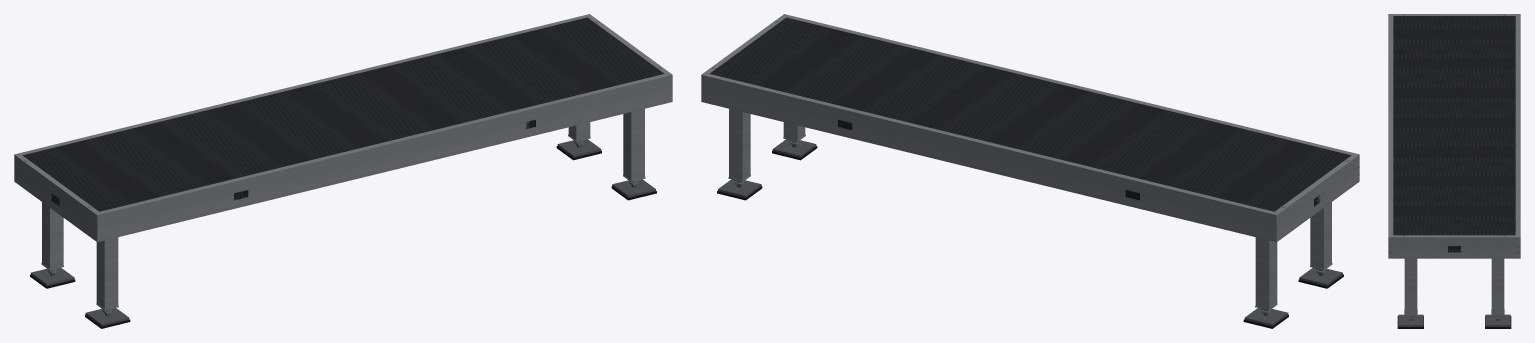
File: stage_extension_2x0p5_h040.obj
The picture shows the model from 3 angles, left to right: view 1: azimuth 30°, elevation 25°; view 2: azimuth 150°, elevation 25°; view 3: azimuth 270°, elevation 25°; orthographic projection. The views are drawn at different scales.
Visible parts, largest first — view 1: part_4, part_43, part_81, part_64, part_28, part_679, part_427, part_49, part_301, part_10, part_663, part_411 (+2 smaller); view 2: part_4, part_6, part_81, part_28, part_64, part_546, part_294, part_12, part_46, part_420, part_10, part_537 (+3 smaller); view 3: part_4, part_104, part_64, part_28, part_542, part_668, part_46, part_10, part_508, part_634, part_106, part_100 (+2 smaller).
Part boxes in pixels (x1,y1,x2,y2): part_4: (23, 17, 664, 211); part_43: (97, 75, 672, 241); part_81: (15, 156, 96, 241); part_64: (94, 72, 671, 214); part_28: (16, 14, 591, 156); part_679: (632, 109, 644, 180); part_427: (105, 237, 117, 308); part_49: (97, 101, 671, 241); part_301: (50, 208, 62, 268); part_10: (14, 14, 589, 154); part_663: (623, 112, 631, 180); part_411: (96, 240, 104, 308); part_4: (709, 17, 1350, 211); part_6: (701, 75, 1276, 242); part_81: (1277, 156, 1358, 241); part_28: (702, 72, 1279, 214); part_64: (781, 14, 1357, 156); part_546: (729, 109, 741, 180); part_294: (1256, 237, 1268, 308); part_12: (701, 101, 1276, 241); part_46: (784, 14, 1359, 154); part_420: (1311, 208, 1323, 268); part_10: (701, 74, 1276, 214); part_537: (742, 112, 750, 180); part_4: (1393, 16, 1515, 235); part_104: (1389, 237, 1519, 258); part_64: (1388, 14, 1393, 237); part_28: (1515, 14, 1520, 237); part_542: (1491, 258, 1504, 314); part_668: (1404, 258, 1417, 314); part_46: (1388, 14, 1389, 237); part_10: (1519, 14, 1520, 237); part_508: (1485, 314, 1510, 325); part_634: (1398, 314, 1423, 325); part_106: (1390, 236, 1518, 237); part_100: (1393, 14, 1515, 15).
Size of the model in its own units: 2 by 0.401 by 0.5.
Materials: 3 (3 with a texture image).
